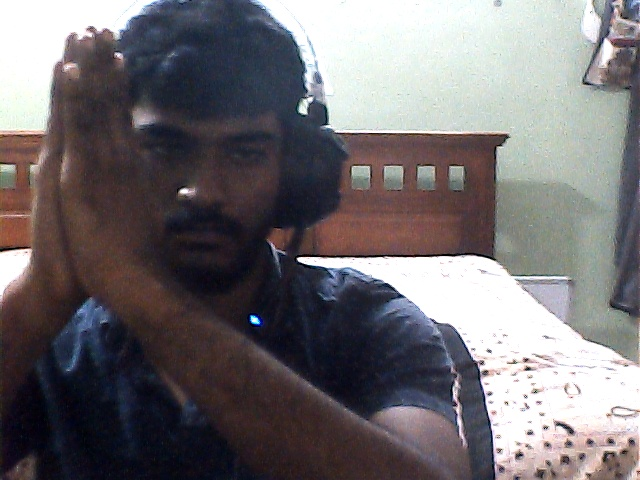Sign: (18, 23, 181, 314)
